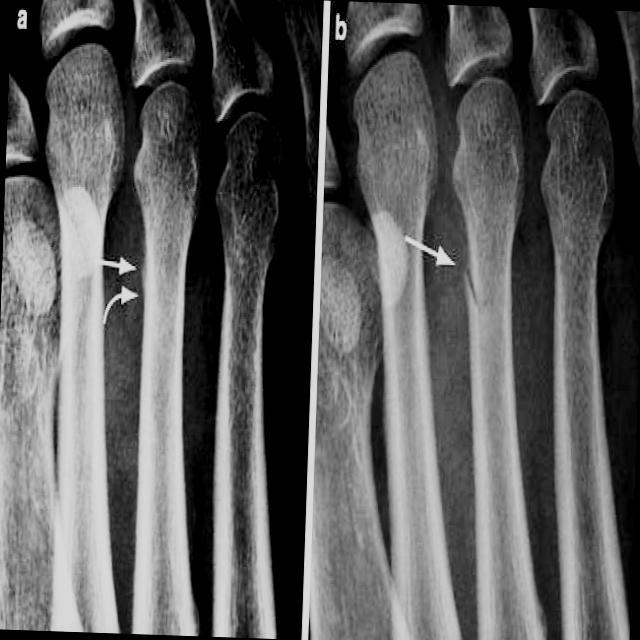HairLine Fracture: (462, 249, 484, 313), (140, 238, 155, 307)
